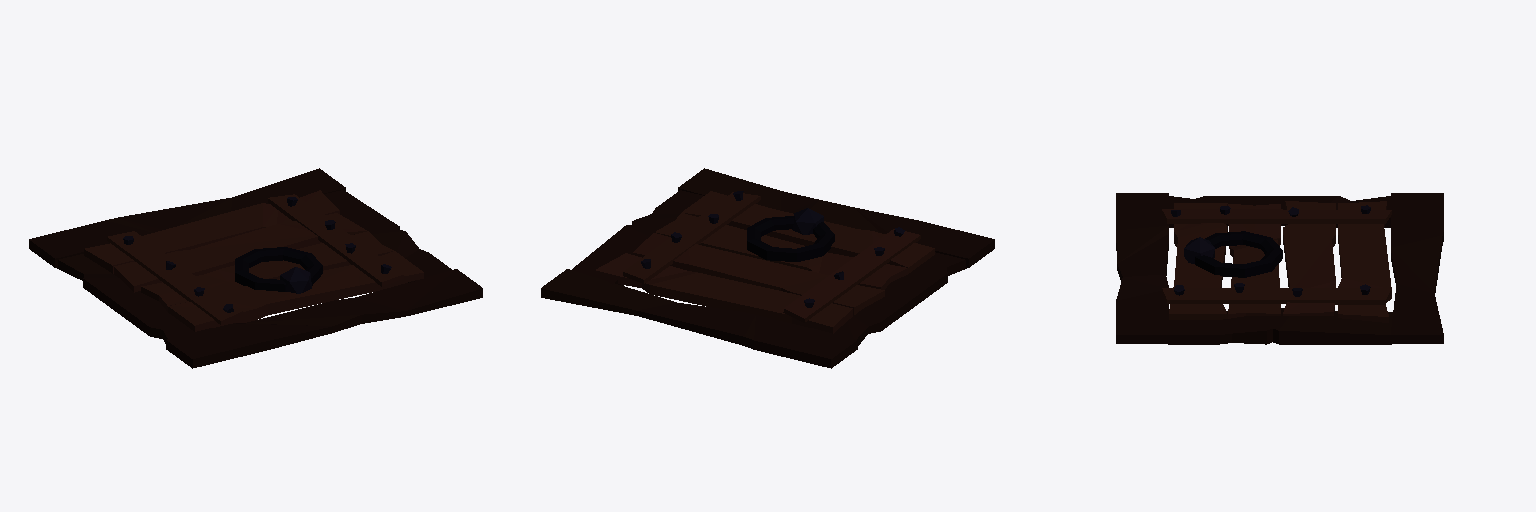
File: Trapdoor.obj
3 views of the same model, side by side, from view 1: azimuth 30°, elevation 25°; view 2: azimuth 150°, elevation 25°; view 3: azimuth 270°, elevation 25° (orthographic).
Visible parts, largest first — view 1: Trapdoor_Cylinder.006; view 2: Trapdoor_Cylinder.006; view 3: Trapdoor_Cylinder.006.
Part boxes in pixels (left/top/right/bottom): Trapdoor_Cylinder.006: left=29, top=168, right=482, bottom=368; Trapdoor_Cylinder.006: left=541, top=168, right=994, bottom=368; Trapdoor_Cylinder.006: left=1116, top=193, right=1443, bottom=344.
Bounding box in the file's own units: 1.74 × 0.2151 × 1.7.